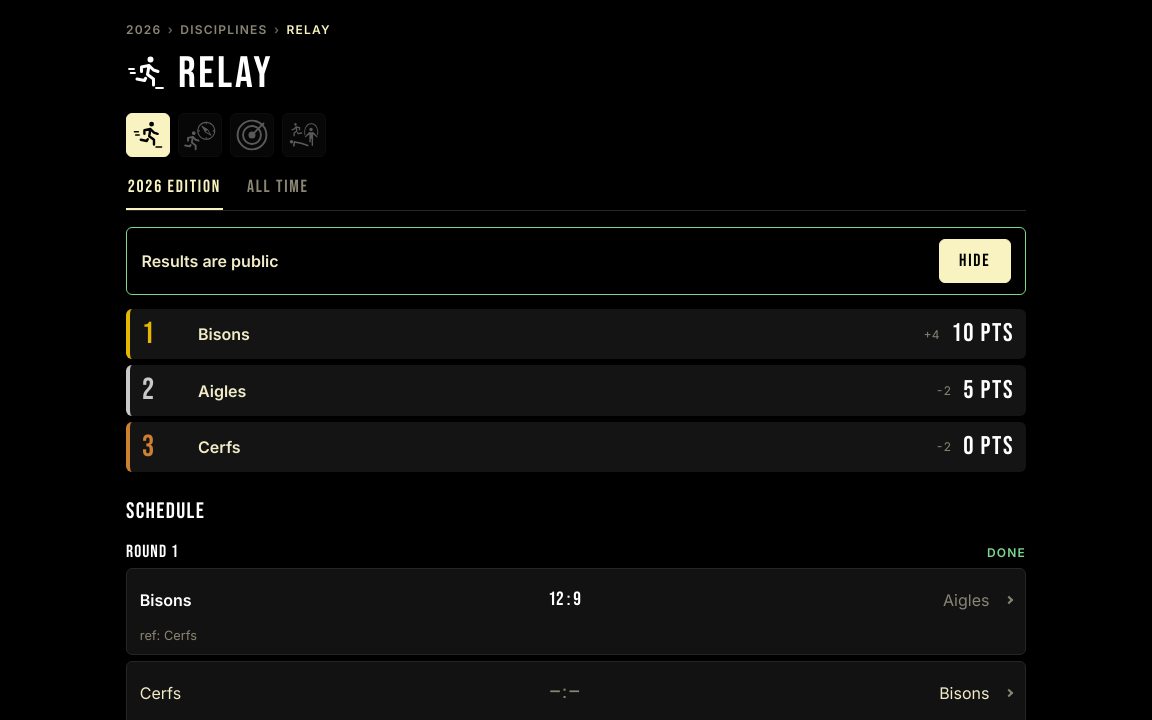
Test case: discipline page for an organiser › turns game rows into buttons that open the sheet
Click the button "Cerfs — : — Bisons" at (576, 693), box [140,671,1012,715]
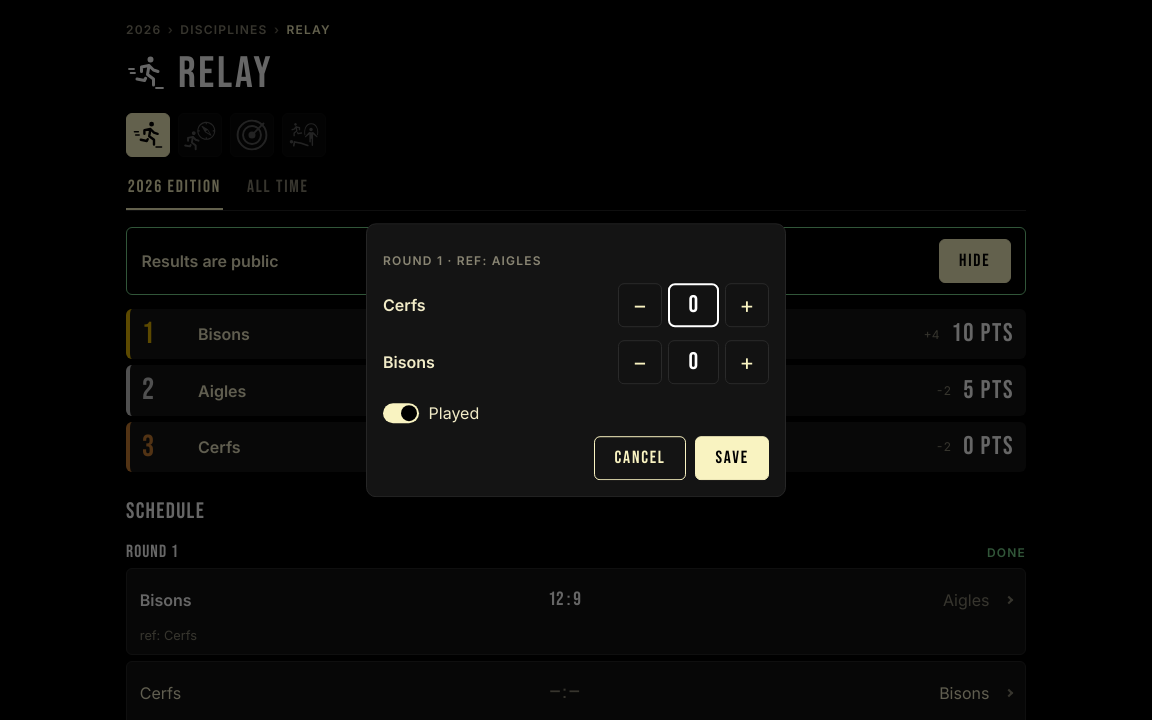
Now the dialog "Round 1 · ref: Aigles" is shown, box [366,223,786,497]
